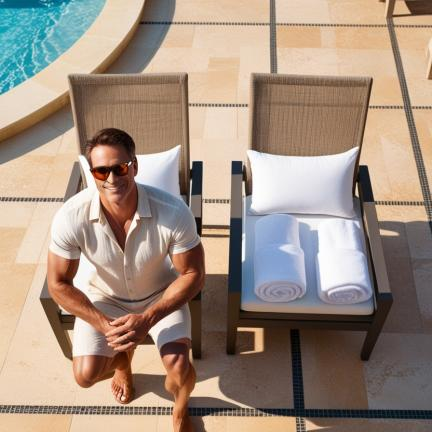guest on chair: (40, 73, 205, 432)
occupied chair: (227, 73, 392, 360)
